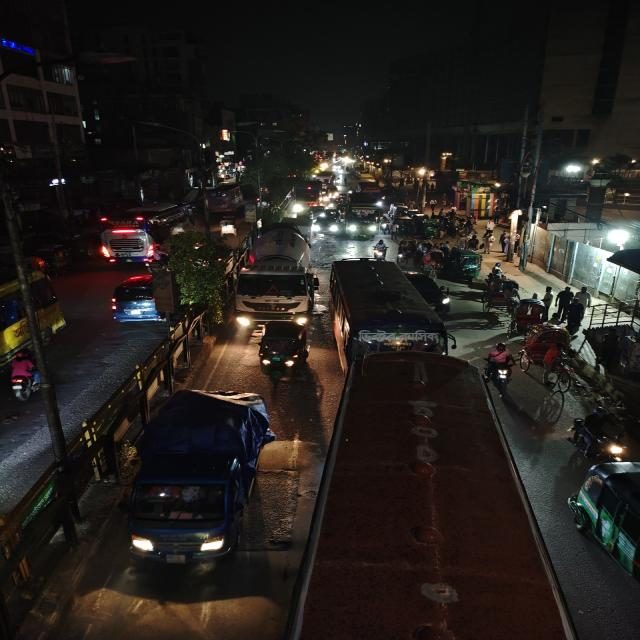bus: (328, 258, 456, 372), (0, 262, 65, 369), (96, 199, 196, 263), (345, 194, 382, 240), (205, 184, 247, 216)
car: (571, 460, 640, 590), (107, 276, 165, 326), (313, 208, 342, 238)
cng: (253, 319, 311, 380), (33, 242, 74, 274), (456, 249, 484, 277)
motorcycle: (566, 407, 628, 463), (2, 350, 46, 402), (482, 341, 518, 389), (372, 238, 389, 259)
pedestrian: (555, 284, 574, 312), (501, 278, 522, 301), (515, 243, 531, 273), (578, 285, 595, 309), (480, 230, 494, 254), (499, 232, 512, 256), (530, 290, 544, 312), (542, 285, 554, 307), (466, 233, 480, 251)
pickup_van: (128, 385, 276, 566)
rickshaw: (509, 300, 542, 336), (481, 291, 513, 321)
truck: (232, 224, 321, 328), (292, 181, 328, 213)
